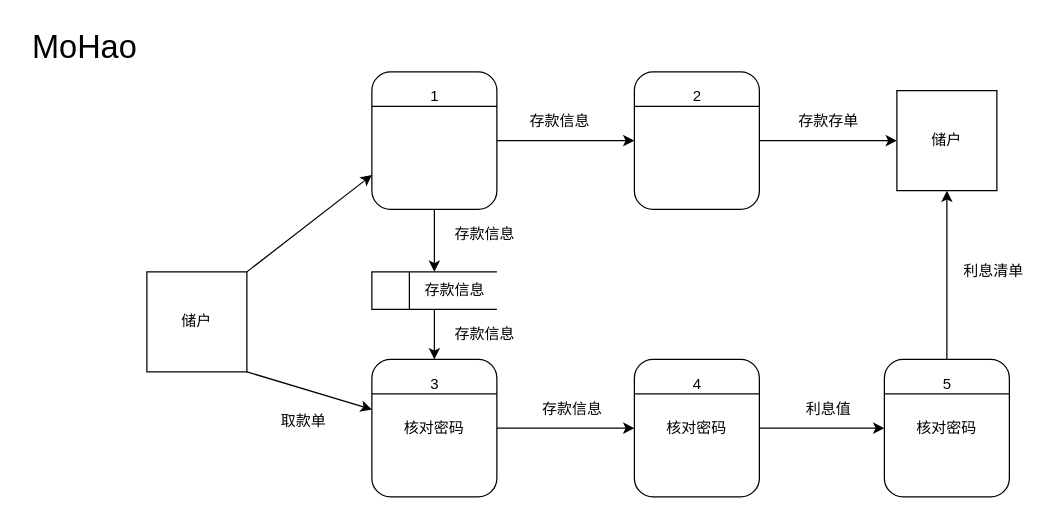
The diagram is 1051 pixels wide and 519 high, and some of its shapes have lost their labels. The shapes that lost their labels are listed below. From the top down, each one's box as (x1, y1, x2, y2) in pixels, then its label:
(371, 71, 497, 209): 记录存款信息
(633, 71, 759, 209): 打印存款存单
(371, 271, 497, 309): D1
